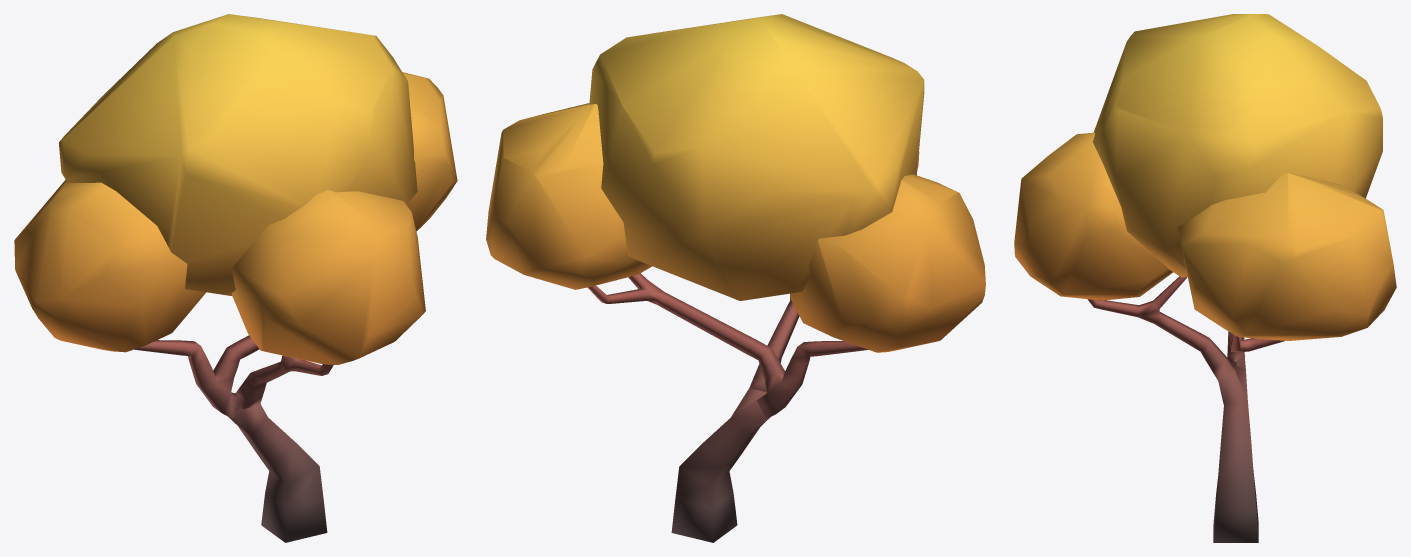
3 renders of one model, left to right at view 1: azimuth 30°, elevation 25°; view 2: azimuth 150°, elevation 25°; view 3: azimuth 270°, elevation 25°, orthographic. The views are drawn at different scales.
Visible parts, largest first — view 1: Vert.026-col; view 2: Vert.026-col; view 3: Vert.026-col.
Boxes of the visible parts, x1,y1,x2,y2 form: Vert.026-col: [14, 14, 457, 542]; Vert.026-col: [486, 14, 985, 542]; Vert.026-col: [1014, 14, 1396, 542].
Bounding box in the file's own units: 4.33 × 4.82 × 3.45.
1 material, 1 textured.
